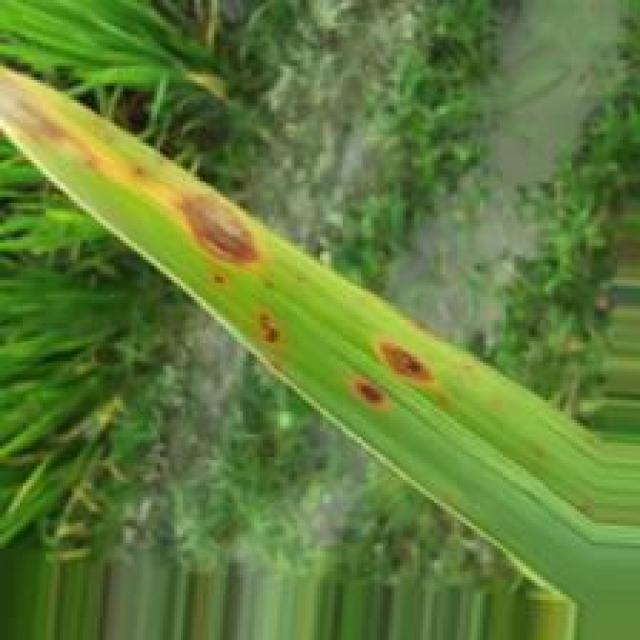Brown_Spot: (1, 75, 109, 173), (168, 183, 266, 272), (370, 337, 446, 394), (351, 370, 395, 411), (257, 308, 286, 346), (129, 160, 153, 183), (213, 273, 236, 287)
